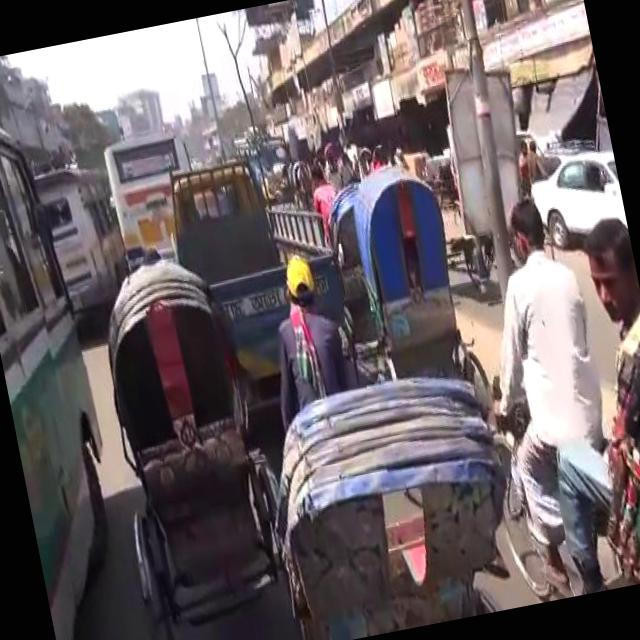bus: (0, 65, 144, 640), (32, 148, 140, 334), (95, 120, 209, 280), (231, 125, 296, 206)
car: (520, 139, 628, 256)
motorcycle: (74, 237, 310, 640), (440, 176, 640, 598), (246, 358, 531, 640), (336, 148, 490, 422), (301, 152, 384, 312), (286, 154, 314, 214), (354, 144, 374, 178)
truck: (154, 133, 362, 400)
